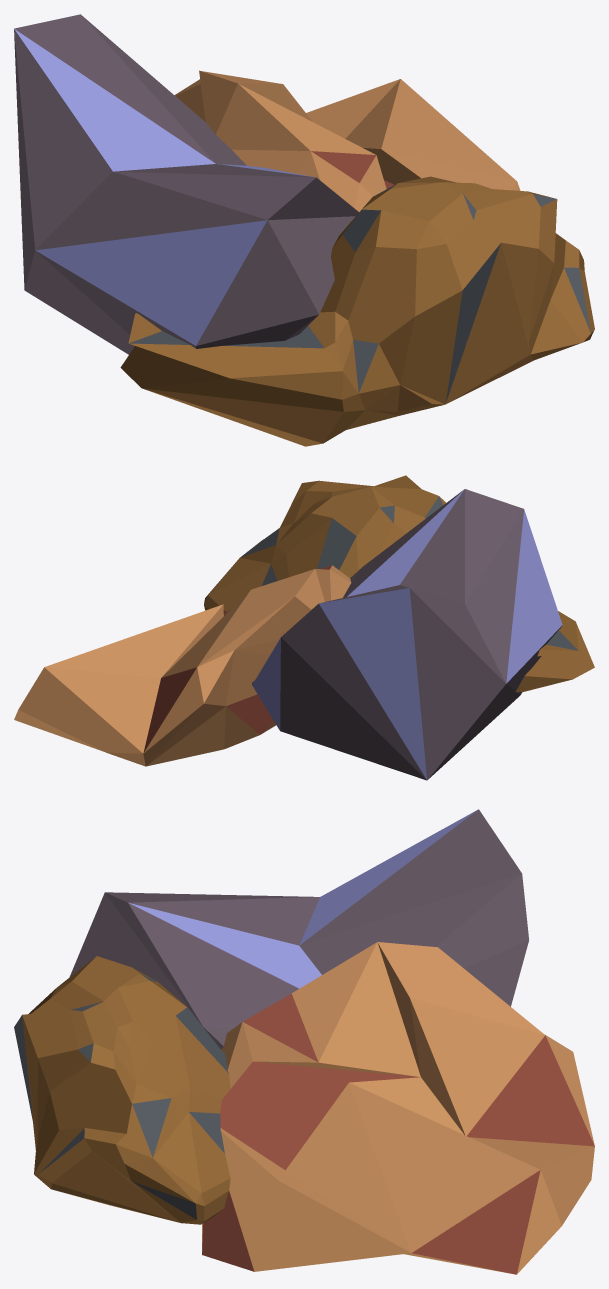
The model's file is Natural_C.fbx.
The picture shows the model from 3 angles, top to bottom: view 1: azimuth 30°, elevation 25°; view 2: azimuth 150°, elevation 25°; view 3: azimuth 270°, elevation 25°; orthographic projection. The views are drawn at different scales.
Parts seen in each view (by area): view 1: Cube.001, Cube.002, Cube; view 2: Cube.001, Cube, Cube.002; view 3: Cube, Cube.001, Cube.002.
Part boxes in pixels (x1,y1,x2,y2): Cube.001: (14, 14, 358, 354); Cube.002: (120, 176, 594, 446); Cube: (174, 70, 520, 211); Cube.001: (252, 489, 562, 780); Cube: (14, 565, 351, 766); Cube.002: (204, 475, 594, 692); Cube: (202, 942, 594, 1274); Cube.001: (69, 809, 528, 1049); Cube.002: (14, 956, 230, 1224).
Size of the model in its own units: 3.89 by 2.19 by 3.98.
